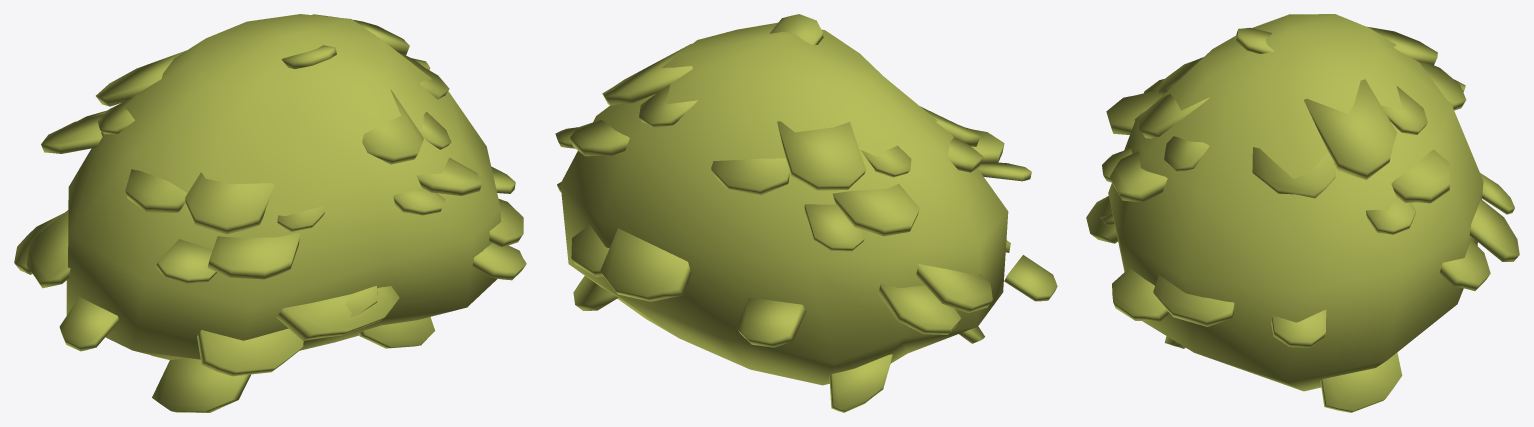
File: Bush1.fbx
3 renders of one model, left to right at view 1: azimuth 30°, elevation 25°; view 2: azimuth 150°, elevation 25°; view 3: azimuth 270°, elevation 25°, orthographic. The views are drawn at different scales.
Visible parts, largest first — view 1: tree_small.001; view 2: tree_small.001; view 3: tree_small.001.
Boxes of the visible parts, x1,y1,x2,y2 form: tree_small.001: (14, 14, 526, 412); tree_small.001: (555, 14, 1057, 412); tree_small.001: (1086, 14, 1519, 412).
Size of the model in its own units: 354 by 219 by 279.
